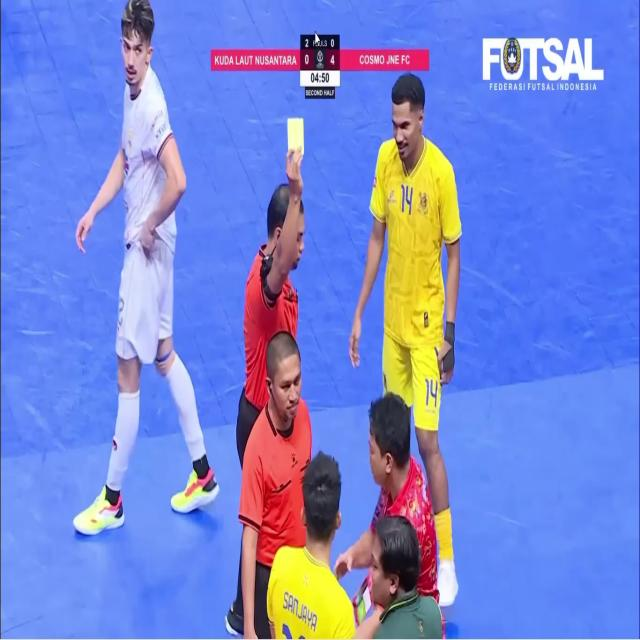referee: (239, 332, 312, 638), (237, 150, 304, 468)
